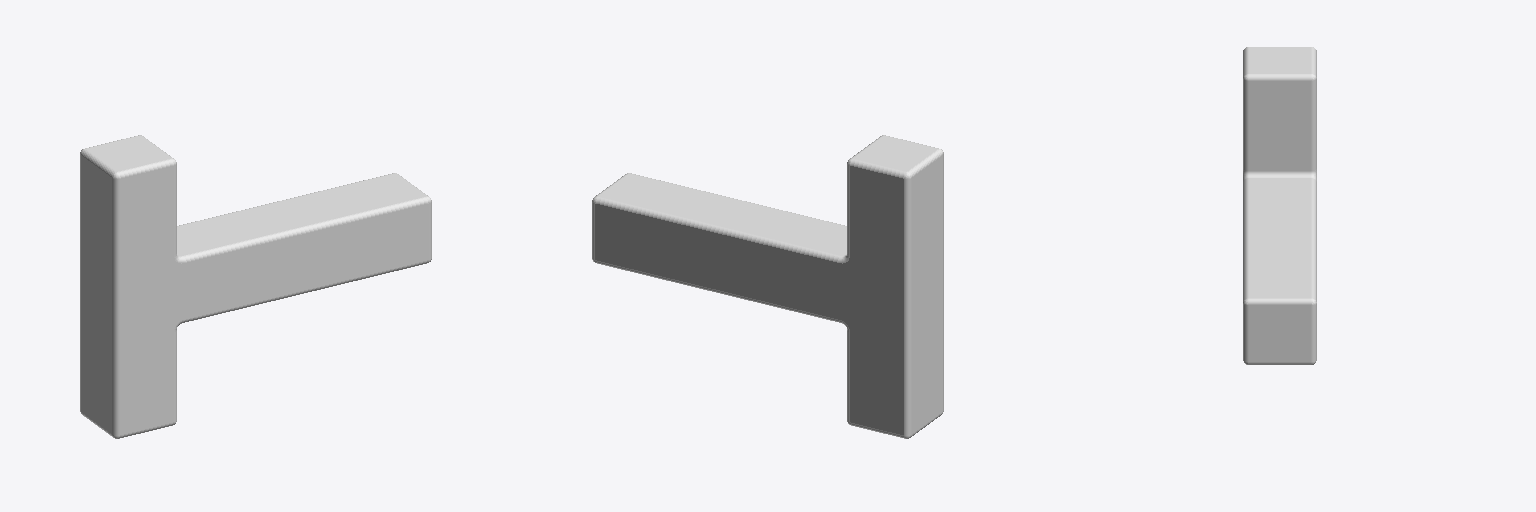
The model's file is push_t_bicolor.obj.
3 renders of one model, left to right at view 1: azimuth 30°, elevation 25°; view 2: azimuth 150°, elevation 25°; view 3: azimuth 270°, elevation 25°, orthographic.
Visible parts, largest first — view 1: mesh36, mesh44, mesh20, mesh39, mesh15, mesh43, mesh6; view 2: mesh41, mesh44, mesh20, mesh46, mesh21, mesh43, mesh10; view 3: mesh20, mesh25, mesh2, mesh43, mesh15, mesh21, mesh26, mesh27.
Part boxes in pixels (bbox=[...]): mesh36: bbox=[120, 166, 428, 434]; mesh44: bbox=[81, 155, 111, 433]; mesh20: bbox=[177, 174, 425, 255]; mesh39: bbox=[112, 178, 119, 435]; mesh15: bbox=[181, 197, 428, 262]; mesh43: bbox=[87, 136, 170, 171]; mesh6: bbox=[183, 260, 428, 322]; mesh41: bbox=[595, 166, 903, 434]; mesh44: bbox=[912, 155, 942, 433]; mesh20: bbox=[598, 174, 846, 255]; mesh46: bbox=[904, 178, 911, 435]; mesh21: bbox=[595, 197, 842, 262]; mesh43: bbox=[853, 136, 936, 171]; mesh10: bbox=[595, 260, 840, 322]; mesh20: bbox=[1249, 178, 1310, 297]; mesh25: bbox=[1249, 81, 1310, 170]; mesh2: bbox=[1249, 305, 1310, 361]; mesh43: bbox=[1249, 47, 1310, 73]; mesh15: bbox=[1243, 178, 1248, 301]; mesh21: bbox=[1311, 178, 1316, 301]; mesh26: bbox=[1243, 79, 1248, 170]; mesh27: bbox=[1311, 79, 1316, 170].
Bounding box in the file's own units: 0.2 × 0.16 × 0.04.